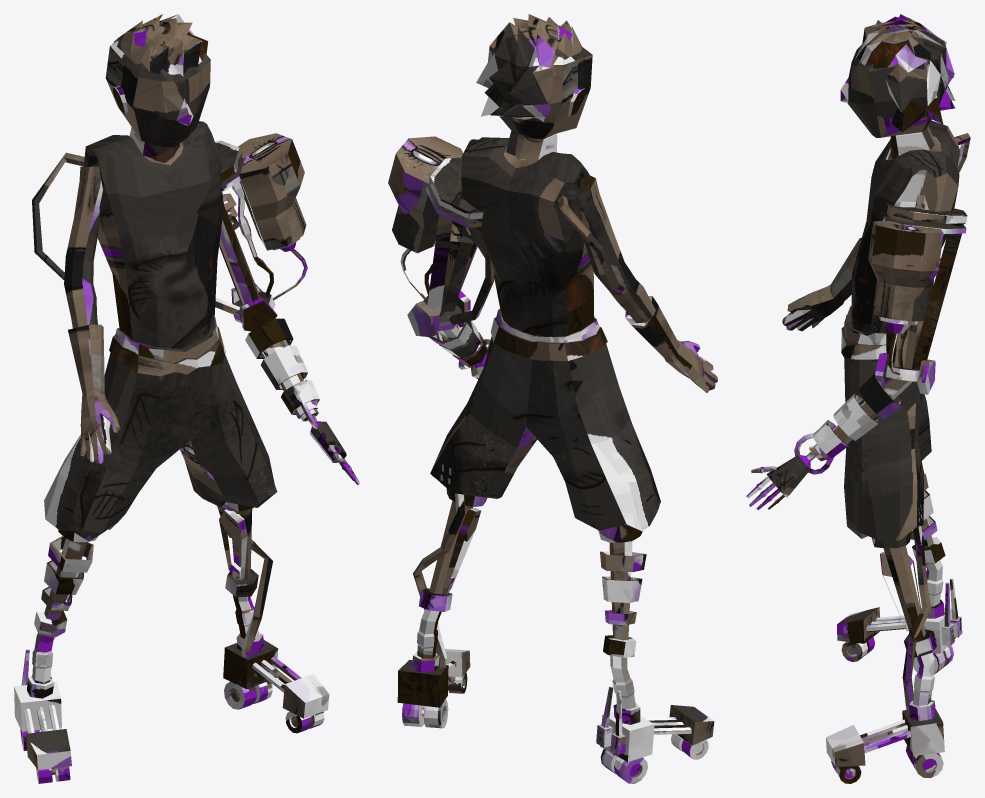
The model's file is CyborgFINALAnimation_000002.obj.
The picture shows the model from 3 angles, left to right: view 1: azimuth 30°, elevation 25°; view 2: azimuth 150°, elevation 25°; view 3: azimuth 270°, elevation 25°; orthographic projection. The views are drawn at different scales.
Visible parts, largest first — view 1: CyborgMesh_Cube.002; view 2: CyborgMesh_Cube.002; view 3: CyborgMesh_Cube.002.
Part boxes in pixels (x1=…): CyborgMesh_Cube.002: x1=14, y1=14, x2=359, y2=783; CyborgMesh_Cube.002: x1=388, y1=14, x2=717, y2=783; CyborgMesh_Cube.002: x1=746, y1=14, x2=970, y2=783.
Size of the model in its own units: 4.08 by 9.63 by 2.79.
